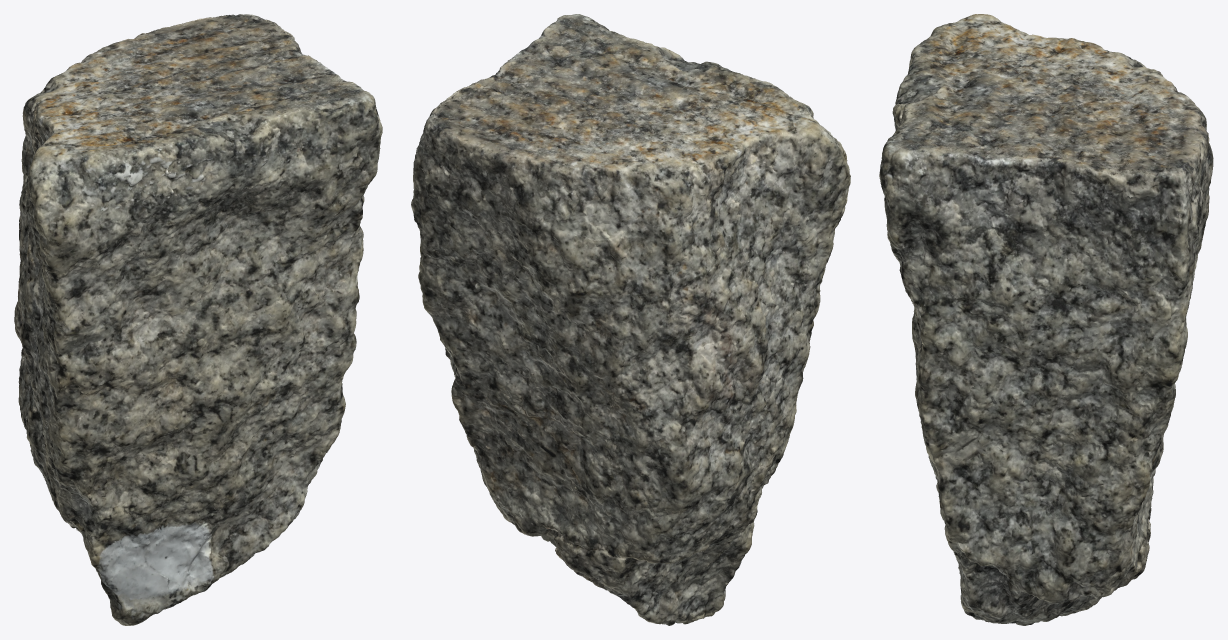
File: sample-07.glb
The picture shows the model from 3 angles, left to right: view 1: azimuth 30°, elevation 25°; view 2: azimuth 150°, elevation 25°; view 3: azimuth 270°, elevation 25°; orthographic projection. The views are drawn at different scales.
Bounding box in the file's own units: 0.0505 × 0.0754 × 0.0402.
Materials: 1 (1 with a texture image).
